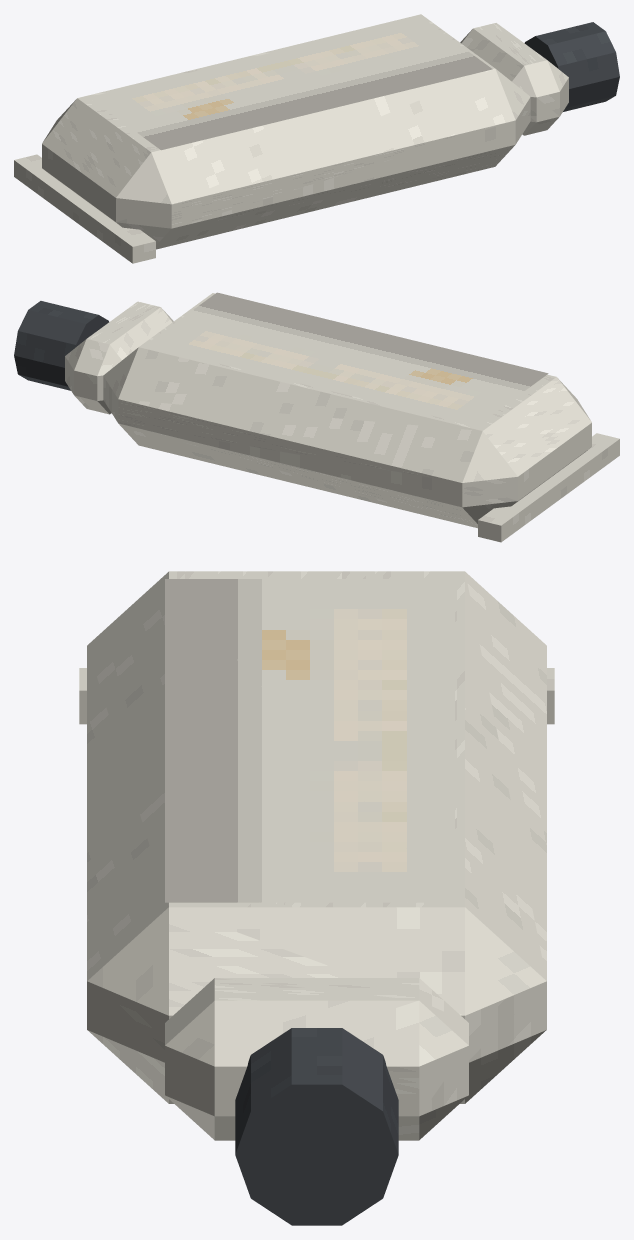
Rendered from small_squeeze_tube.glb.
The picture shows the model from 3 angles, top to bottom: view 1: azimuth 30°, elevation 25°; view 2: azimuth 150°, elevation 25°; view 3: azimuth 270°, elevation 25°; orthographic projection. The views are drawn at different scales.
Parts seen in each view (by area): view 1: block_flattened flexible squeeze body, block_printed panel, block_tapered neck, block_screw cap, block_crimped tail; view 2: block_flattened flexible squeeze body, block_printed panel, block_tapered neck, block_screw cap, block_crimped tail; view 3: block_flattened flexible squeeze body, block_printed panel, block_tapered neck, block_screw cap, block_crimped tail.
Part boxes in pixels (bbox=[...]): block_flattened flexible squeeze body: bbox=[42, 14, 530, 249]; block_printed panel: bbox=[89, 16, 492, 150]; block_tapered neck: bbox=[460, 23, 568, 135]; block_screw cap: bbox=[524, 22, 619, 111]; block_crimped tail: bbox=[14, 154, 155, 263]; block_flattened flexible squeeze body: bbox=[103, 293, 591, 528]; block_printed panel: bbox=[145, 292, 548, 426]; block_tapered neck: bbox=[65, 301, 173, 414]; block_screw cap: bbox=[14, 301, 108, 390]; block_crimped tail: bbox=[478, 433, 619, 542]; block_flattened flexible squeeze body: bbox=[87, 571, 546, 1103]; block_printed panel: bbox=[165, 579, 454, 902]; block_tapered neck: bbox=[165, 978, 468, 1140]; block_screw cap: bbox=[235, 1028, 398, 1225]; block_crimped tail: bbox=[79, 668, 554, 724].
Size of the model in its own units: 0.03 by 0.00539 by 0.0117.
1 material, 1 textured.
